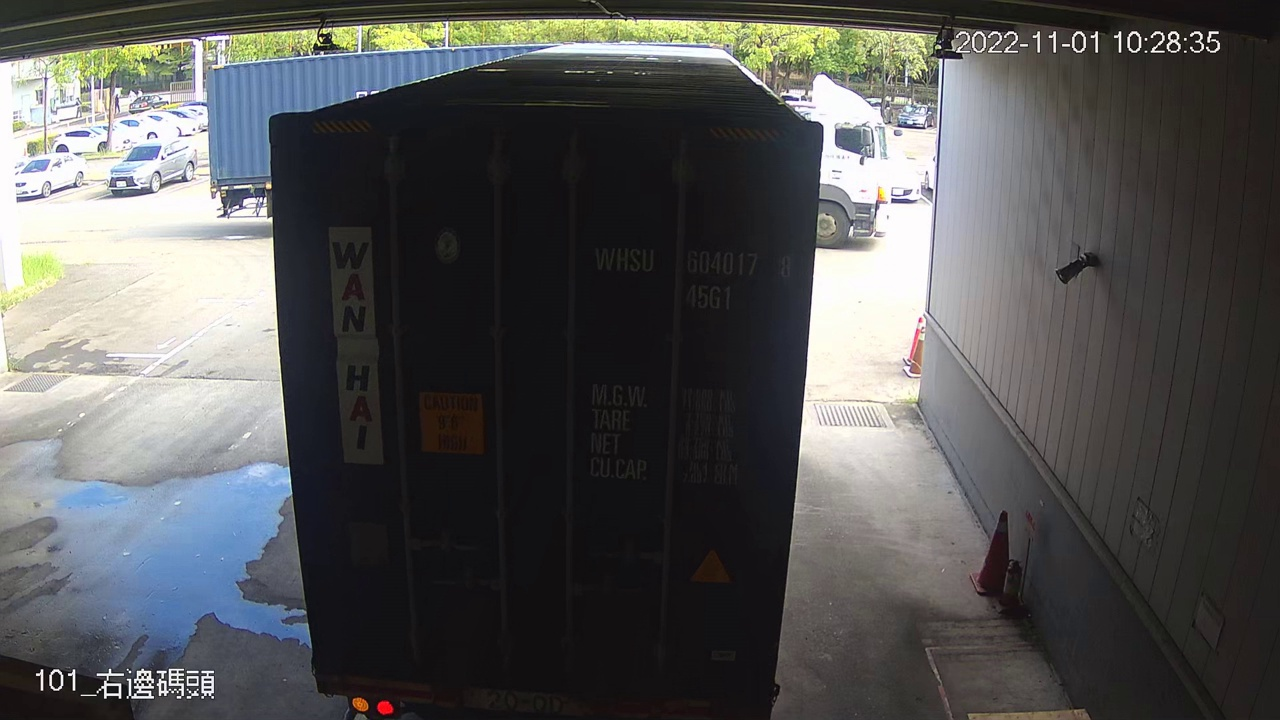container: (585, 235, 800, 319)
